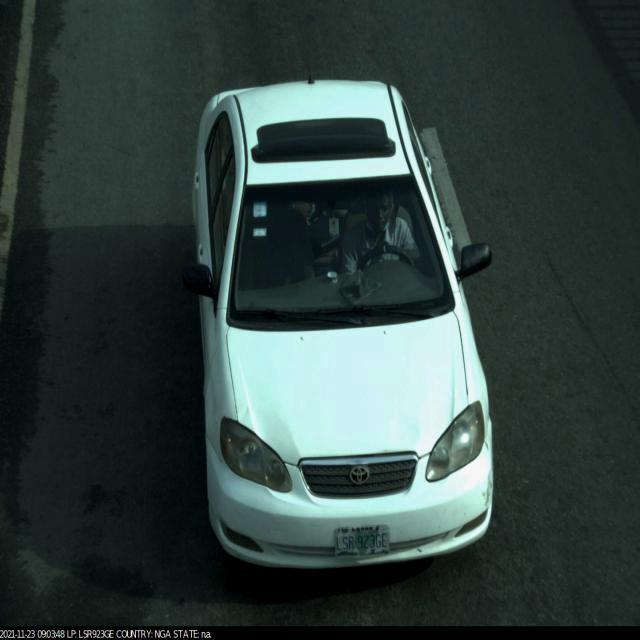person_with_seatbelt: (330, 168, 427, 282)
